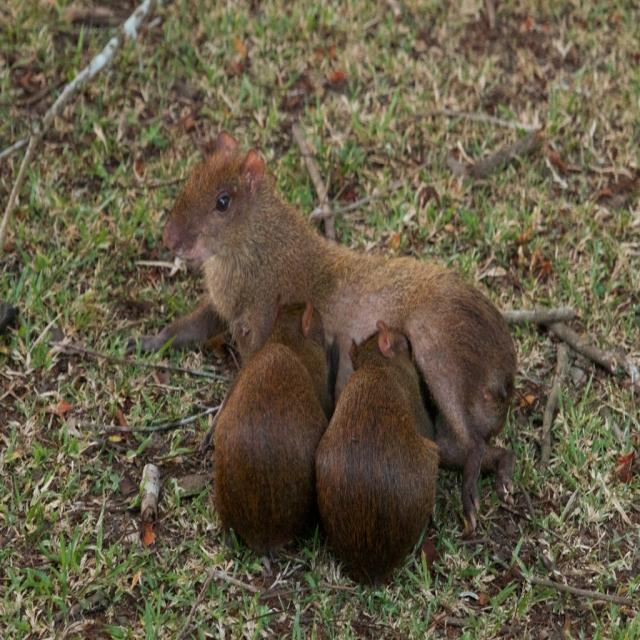rat: (156, 138, 478, 400), (315, 316, 440, 588), (215, 296, 332, 554)
